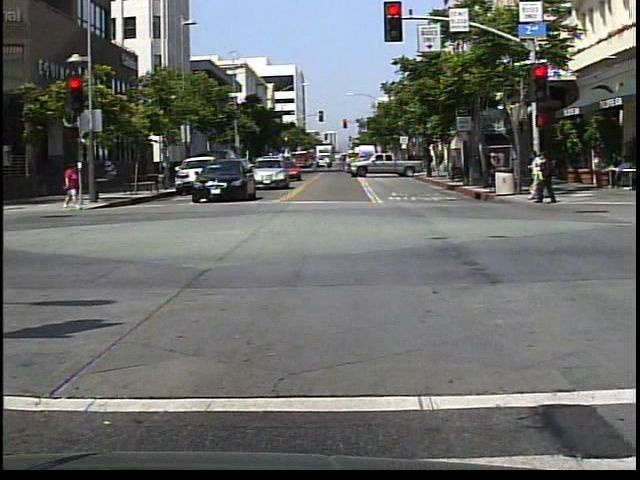person: (532, 150, 561, 208), (525, 145, 546, 201), (608, 149, 634, 193), (62, 161, 82, 213)
